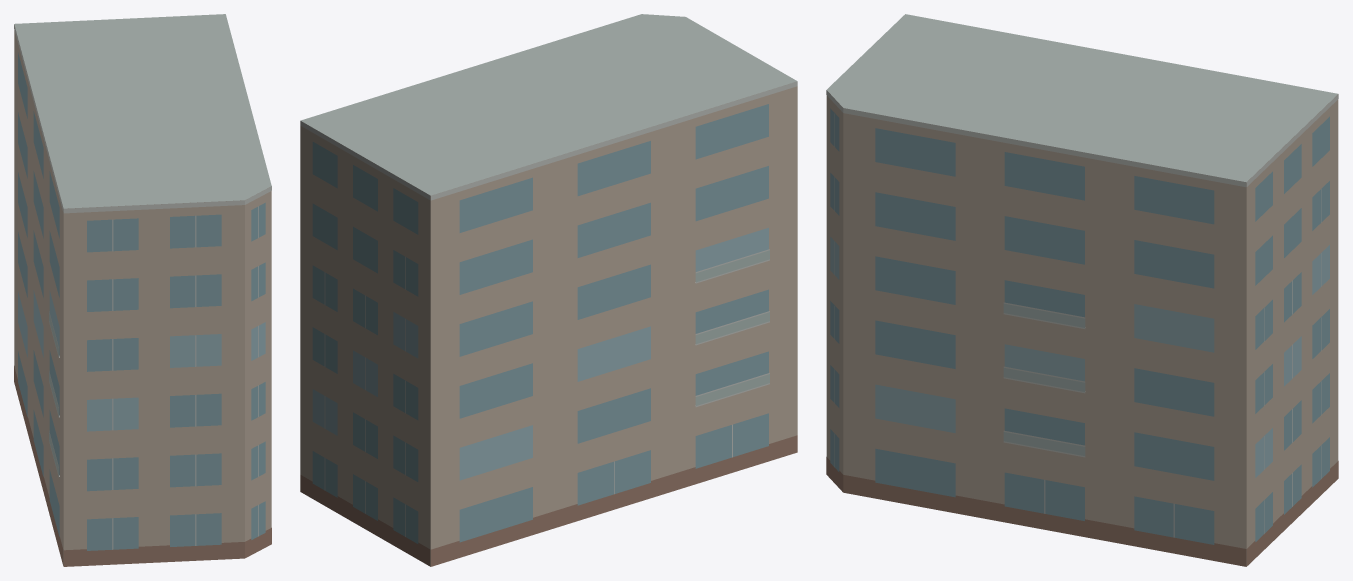
File: survey-upis-32674478.glb
3 views of the same model, side by side, from view 1: azimuth 30°, elevation 25°; view 2: azimuth 150°, elevation 25°; view 3: azimuth 270°, elevation 25° (orthographic). The views are drawn at different scales.
Visible parts, largest first — view 1: survey-upis-32674478.tmp; view 2: survey-upis-32674478.tmp; view 3: survey-upis-32674478.tmp.
Boxes of the visible parts, x1,y1,x2,y2 form: survey-upis-32674478.tmp: (14,14,271,566); survey-upis-32674478.tmp: (300,14,797,566); survey-upis-32674478.tmp: (826,14,1338,566).
Bounding box in the file's own units: 17.17 × 18.3 × 22.09.
